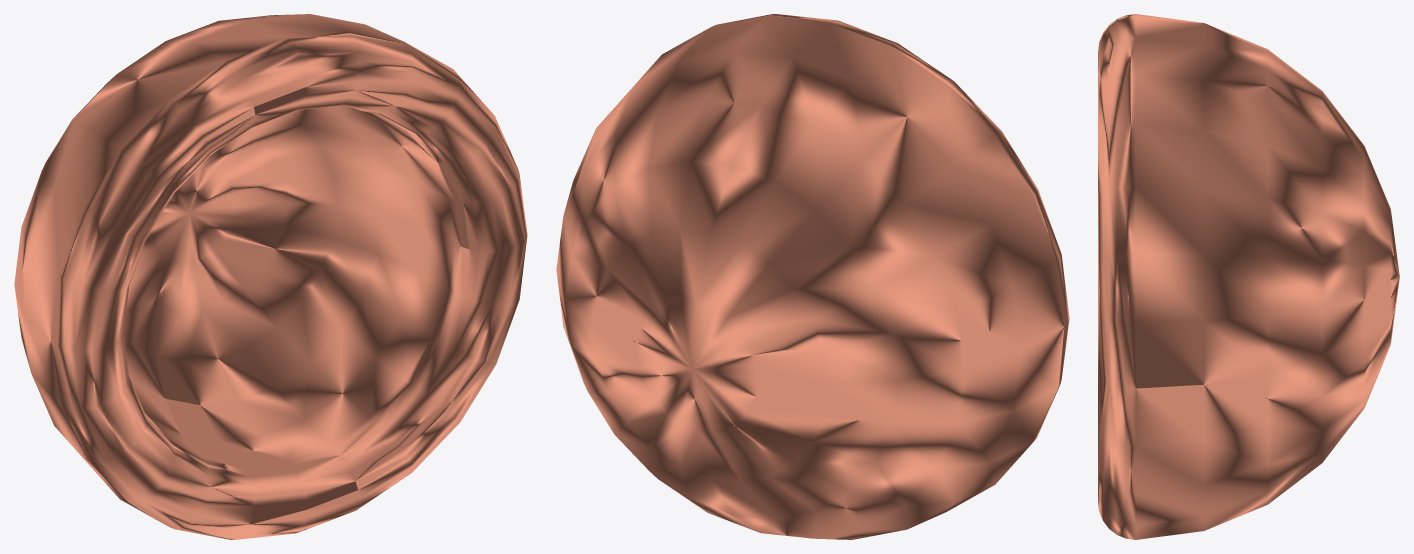
The model's file is model_align.obj.
3 renders of one model, left to right at view 1: azimuth 30°, elevation 25°; view 2: azimuth 150°, elevation 25°; view 3: azimuth 270°, elevation 25°, orthographic. The views are drawn at different scales.
Bounding box in the file's own units: 0.1537 × 0.1537 × 0.0878.
